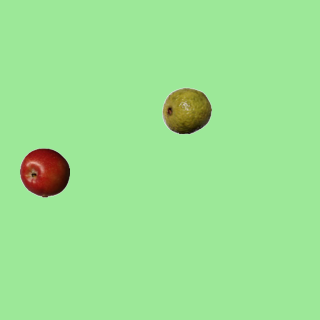Apple Braeburn: (19, 147, 69, 197)
Guava: (161, 85, 211, 135)
